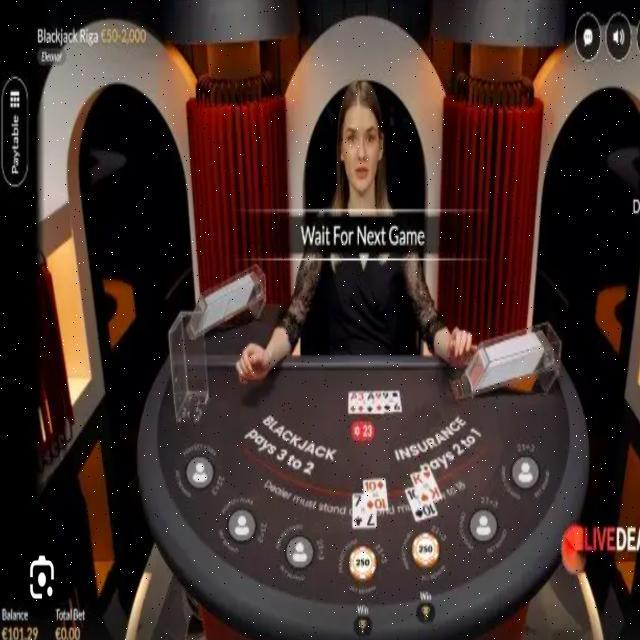Card-10: (405, 486, 438, 522), (363, 478, 388, 511)
Card-3: (358, 390, 367, 414)
Card-7: (353, 493, 377, 529)
Card-9: (383, 389, 402, 413), (375, 390, 383, 414)
Card-A: (348, 390, 358, 414), (367, 390, 375, 414)
Card-K: (410, 468, 443, 506)
